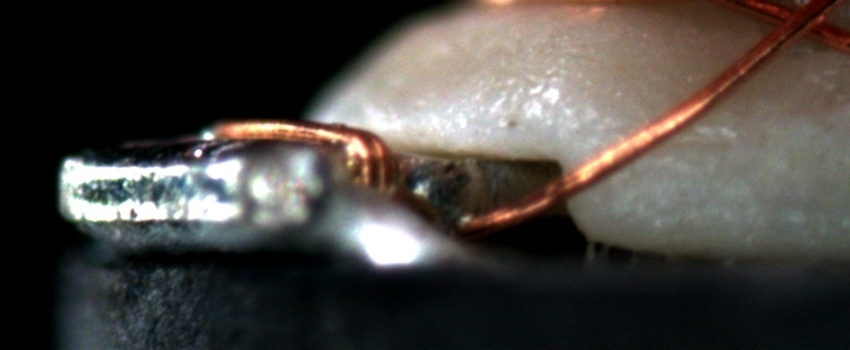CL: (761, 2, 841, 46)
DL: (629, 117, 741, 176)
TE: (199, 117, 400, 208)
